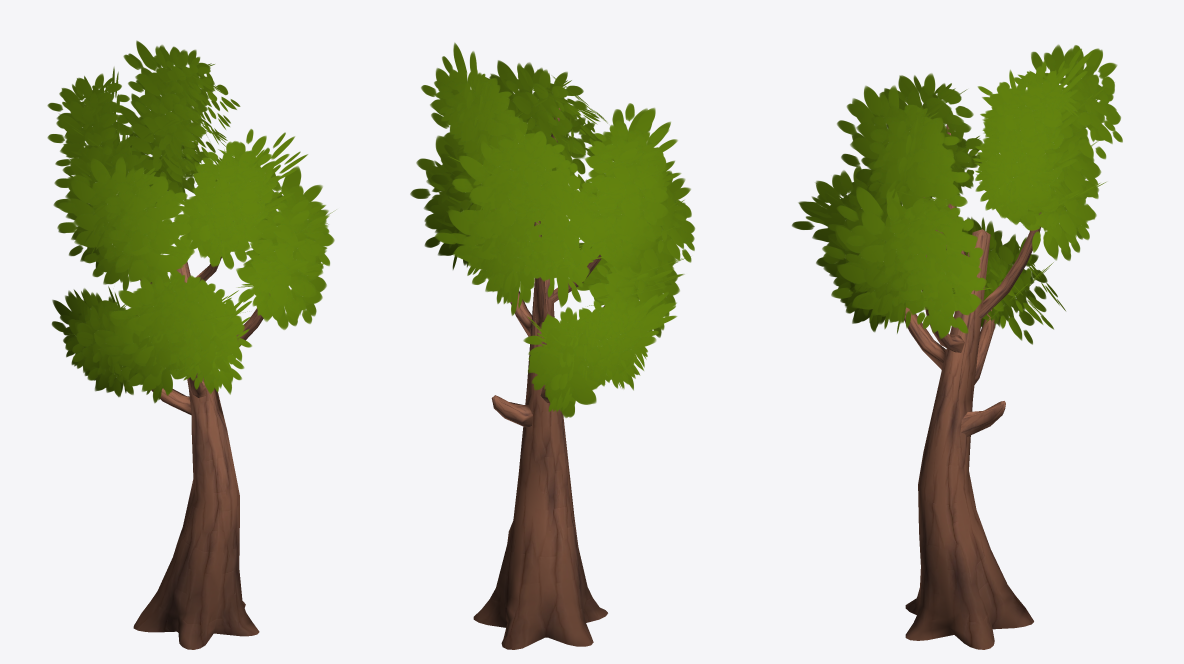
Rendered from tree-1.glb.
The picture shows the model from 3 angles, left to right: view 1: azimuth 30°, elevation 25°; view 2: azimuth 150°, elevation 25°; view 3: azimuth 270°, elevation 25°; orthographic projection. The views are drawn at different scales.
Visible parts, largest first — view 1: CommonTree_5; view 2: CommonTree_5; view 3: CommonTree_5.
Boxes of the visible parts, box(x1,y1,x2,y2) form: CommonTree_5: box(47, 40, 335, 649); CommonTree_5: box(410, 42, 694, 649); CommonTree_5: box(792, 44, 1122, 649).
Bounding box in the file's own units: 3.67 × 7.01 × 4.22.
Materials: 2 (2 with a texture image).
